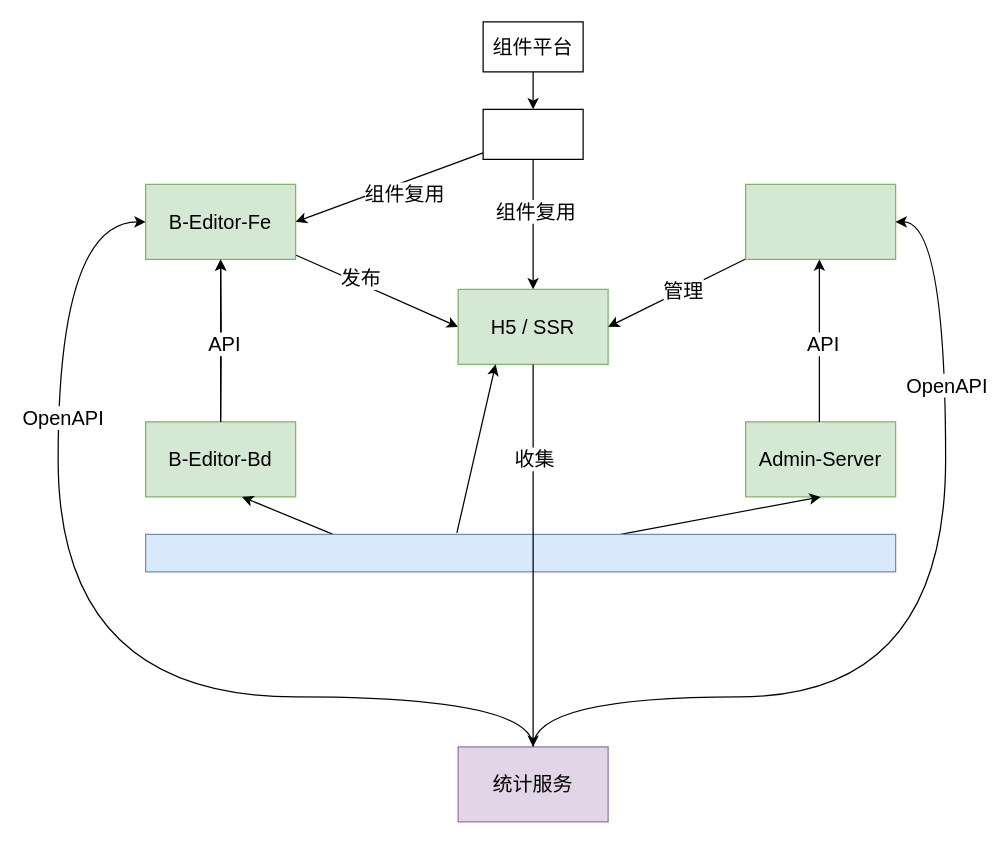
The diagram is 1008 pixels wide and 844 high, and some of its shapes have lost their labels. Here are the shapes that lost their labels. From the top down, the centre of each, then its label:
pixel 532 133: 组件库
pixel 820 221: Admin-Fe
pixel 520 552: 数据库
